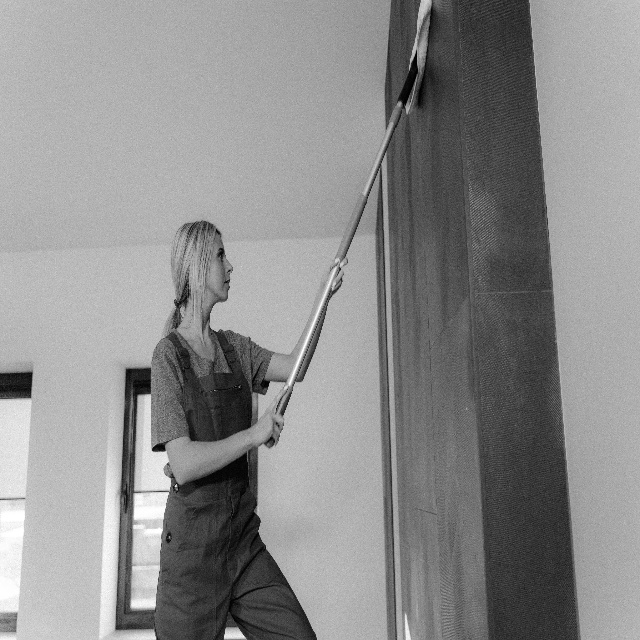Sin_guantes: (252, 383, 289, 447), (320, 258, 347, 295)
